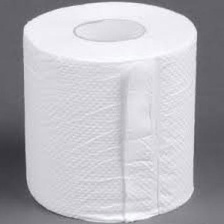tissue: (15, 0, 204, 224)
